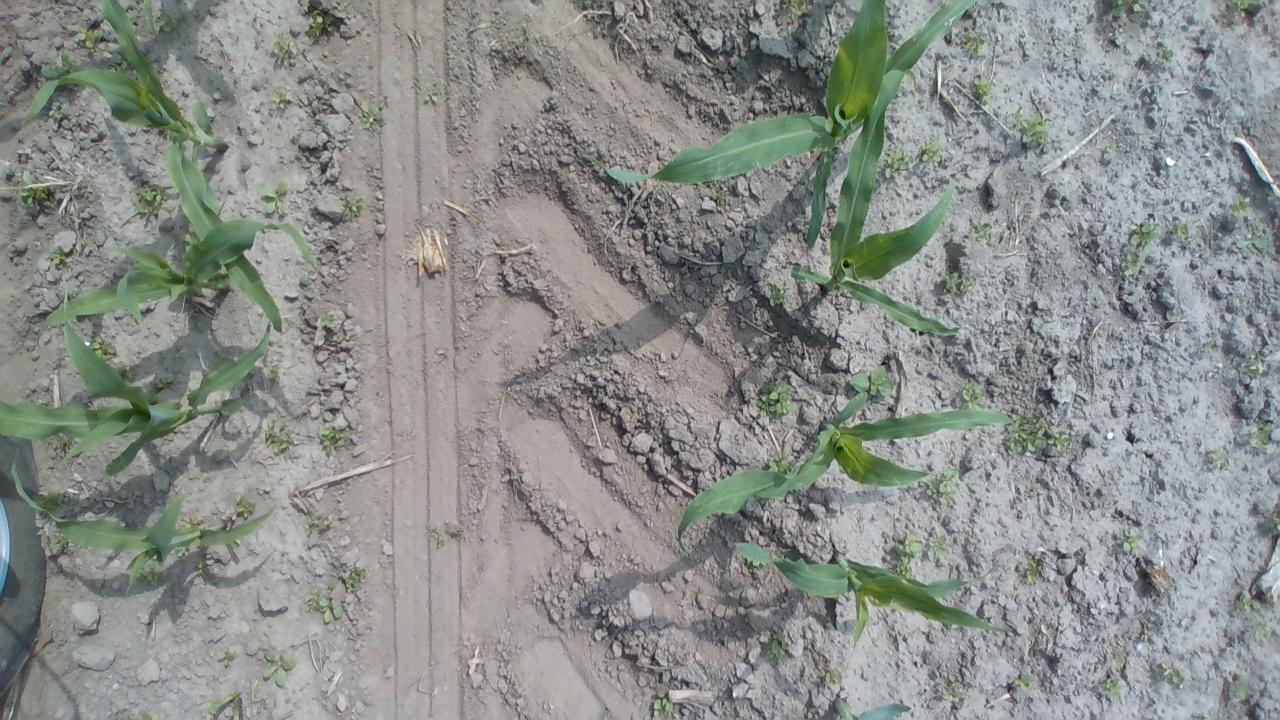Maize: (19, 0, 286, 336), (580, 0, 980, 185), (676, 390, 1015, 556), (0, 290, 272, 480), (792, 66, 961, 339), (0, 446, 271, 592), (731, 539, 1008, 650), (43, 218, 314, 330), (834, 693, 914, 720), (206, 691, 246, 720)
Weeds: (1006, 415, 1072, 456), (304, 581, 344, 625), (1007, 111, 1054, 146), (756, 380, 801, 416), (848, 366, 894, 400), (894, 532, 924, 580), (262, 647, 298, 687), (926, 466, 960, 505), (156, 6, 194, 40), (14, 173, 49, 209), (263, 417, 295, 456), (133, 183, 167, 218), (1128, 221, 1164, 253), (257, 178, 288, 214), (130, 555, 164, 586), (882, 146, 912, 178), (40, 52, 76, 78), (766, 632, 794, 665), (32, 488, 62, 518), (927, 528, 953, 562), (320, 423, 350, 452), (304, 10, 332, 39), (973, 77, 1002, 105), (961, 382, 988, 411), (1159, 661, 1186, 689), (88, 334, 117, 360), (75, 26, 100, 56), (652, 687, 674, 720), (271, 29, 296, 58), (360, 100, 384, 130), (944, 270, 974, 294), (343, 564, 366, 594), (961, 30, 986, 56), (920, 136, 944, 163), (146, 372, 175, 394), (766, 451, 791, 476), (1110, 0, 1146, 17), (298, 270, 318, 300), (1120, 253, 1144, 278), (966, 222, 994, 243), (1235, 234, 1269, 251), (1226, 194, 1250, 218), (1244, 352, 1268, 376), (1232, 0, 1265, 17), (236, 495, 256, 523), (338, 194, 362, 217), (1206, 446, 1229, 470), (432, 530, 466, 546), (1022, 558, 1041, 586), (1120, 528, 1144, 550), (1248, 424, 1273, 445), (1230, 680, 1256, 700), (770, 279, 789, 306), (116, 709, 162, 720), (783, 0, 809, 19), (942, 680, 962, 704), (112, 359, 137, 378), (216, 646, 236, 668), (307, 516, 329, 535), (270, 88, 289, 110), (1102, 678, 1122, 698), (178, 231, 197, 250), (210, 350, 228, 370), (1015, 672, 1034, 690), (1156, 47, 1176, 64), (266, 364, 282, 385), (46, 434, 70, 448), (1234, 594, 1253, 611), (50, 246, 66, 266), (105, 59, 129, 72), (746, 558, 768, 572), (1173, 221, 1189, 240), (192, 559, 209, 576), (318, 314, 336, 330), (824, 669, 841, 685), (1110, 650, 1126, 666), (712, 184, 728, 200), (53, 105, 70, 120), (176, 545, 192, 560), (49, 532, 69, 544), (1202, 340, 1220, 353), (1254, 624, 1270, 638), (424, 88, 438, 103), (1104, 139, 1118, 154), (1270, 514, 1280, 534), (288, 128, 302, 142), (992, 0, 1008, 5)
